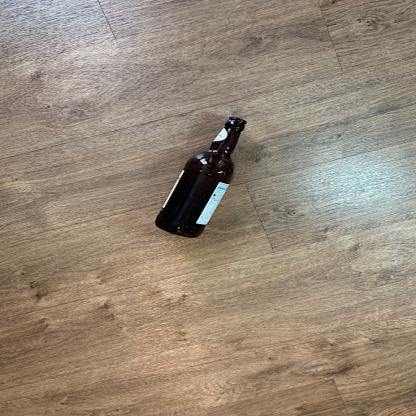trash: (155, 117, 247, 242)
